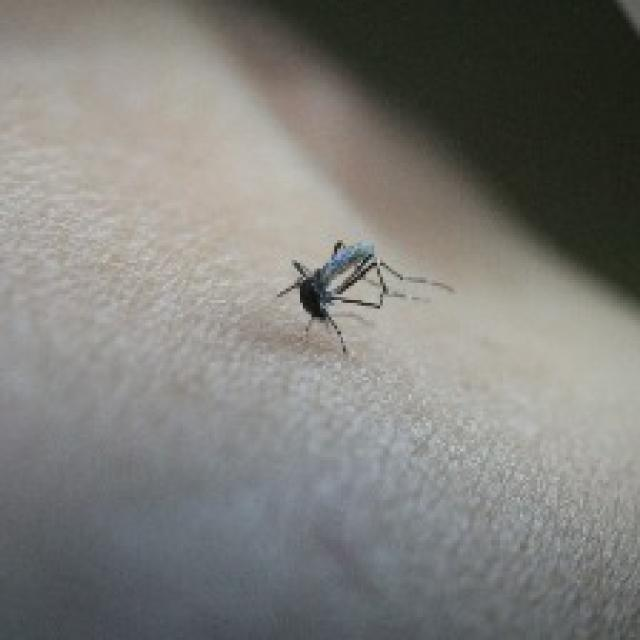aedes: (272, 234, 454, 357)
